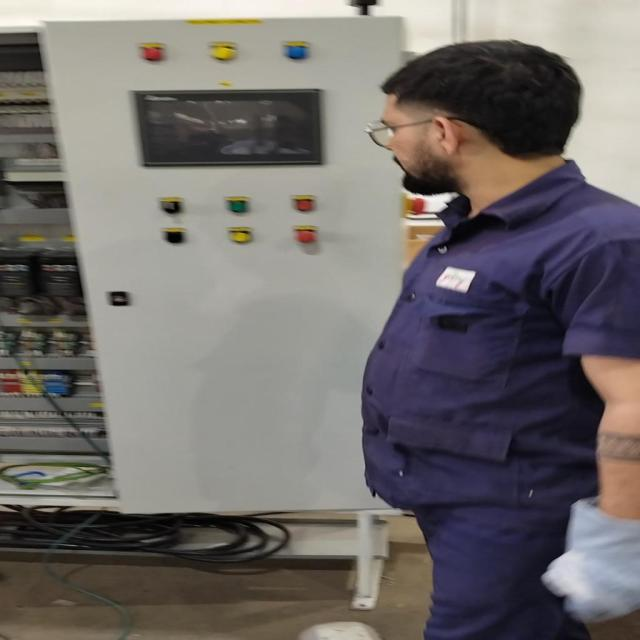Gloves-Detection: (544, 495, 640, 640)
